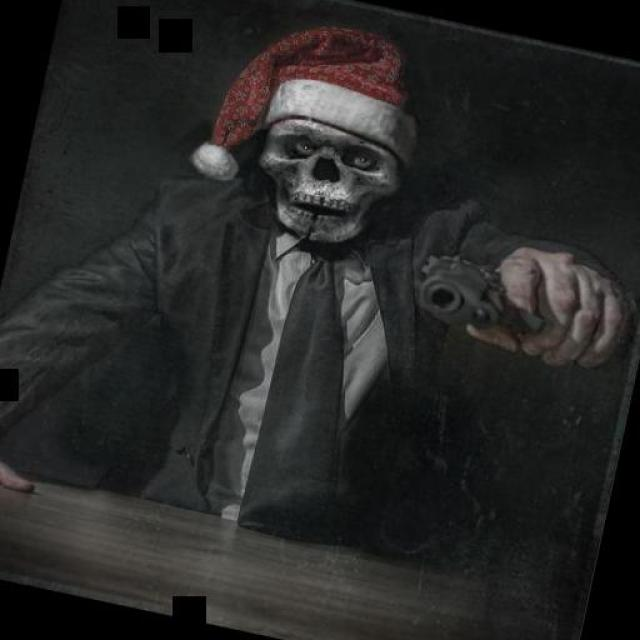gun: (400, 242, 552, 356)
